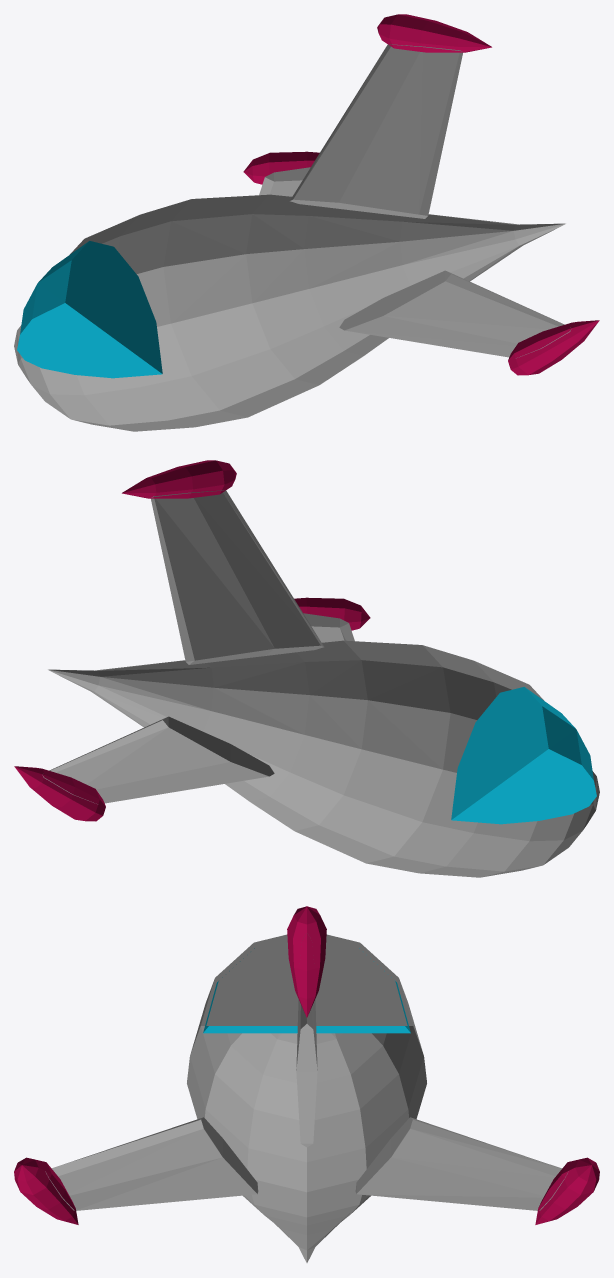
Rendered from spaceship.glb.
The picture shows the model from 3 angles, top to bottom: view 1: azimuth 30°, elevation 25°; view 2: azimuth 150°, elevation 25°; view 3: azimuth 270°, elevation 25°; orthographic projection. The views are drawn at different scales.
Size of the model in its own units: 0.1131 by 0.0697 by 0.0989.
